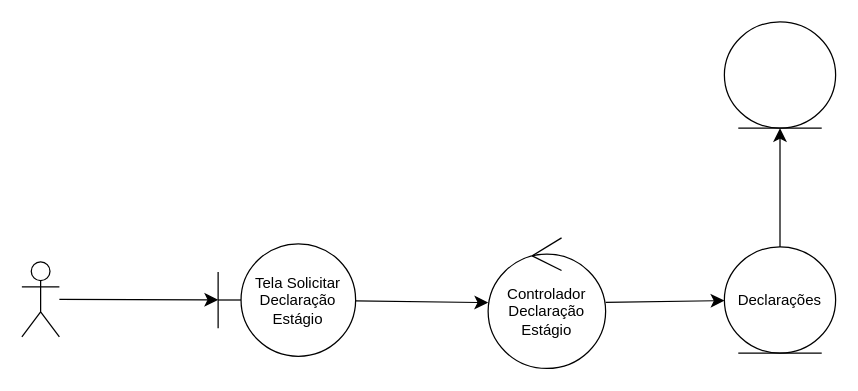
Some shapes in this 858 by 391 pixel diagram are drawn without their labels. Each missing label, with the box of its shape:
Aluno: (21, 261, 59, 337)
Estagio: (723, 21, 836, 128)
